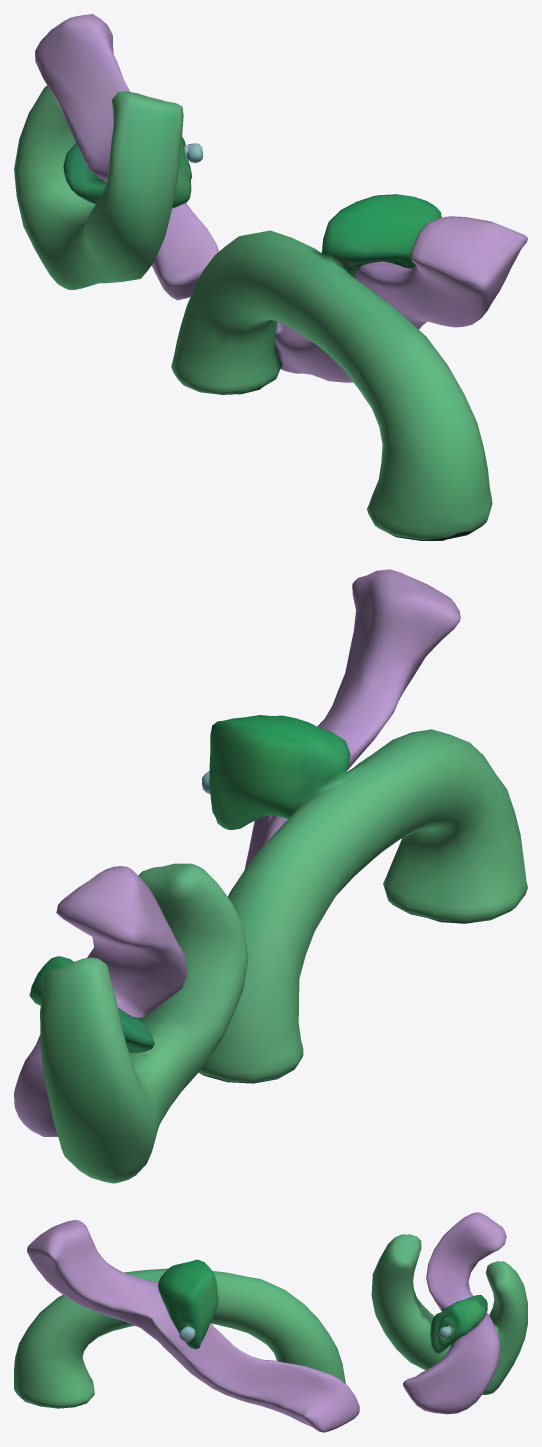
3 renders of one model, top to bottom at view 1: azimuth 30°, elevation 25°; view 2: azimuth 150°, elevation 25°; view 3: azimuth 270°, elevation 25°, orthographic. The views are drawn at different scales.
Visible parts, largest first — view 1: tripo_node_7599eec4-ab01-4b09-957d-29db6b02f090; view 2: tripo_node_7599eec4-ab01-4b09-957d-29db6b02f090; view 3: tripo_node_7599eec4-ab01-4b09-957d-29db6b02f090.
Part boxes in pixels (left/top/right/bottom): tripo_node_7599eec4-ab01-4b09-957d-29db6b02f090: left=14, top=14, right=527, bottom=540; tripo_node_7599eec4-ab01-4b09-957d-29db6b02f090: left=14, top=569, right=527, bottom=1183; tripo_node_7599eec4-ab01-4b09-957d-29db6b02f090: left=14, top=1212, right=527, bottom=1432.
Bounding box in the file's own units: 0.2779 × 0.4012 × 0.998.
Materials: 1 (1 with a texture image).
